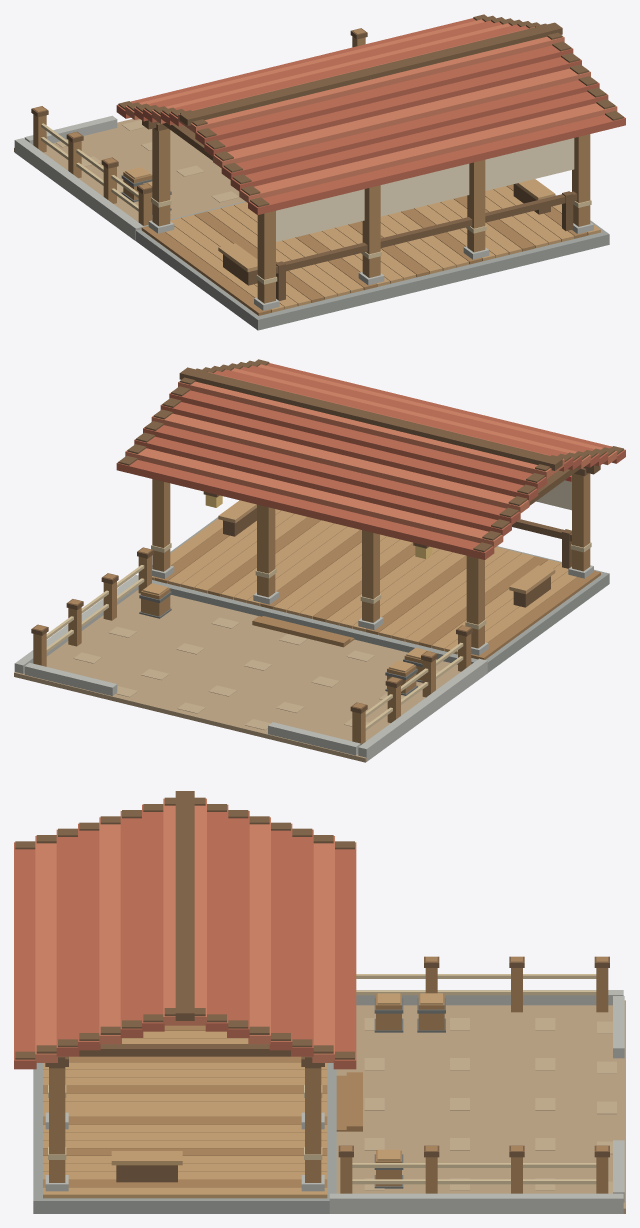
The model's file is centro_treino_voxel.glb.
3 views of the same model, one above another, from view 1: azimuth 30°, elevation 25°; view 2: azimuth 150°, elevation 25°; view 3: azimuth 270°, elevation 25° (orthographic). The views are drawn at different scales.
Parts seen in each view (by area): view 1: CentroTreinoVoxel; view 2: CentroTreinoVoxel; view 3: CentroTreinoVoxel.
Part boxes in pixels (x1,y1,x2,y2): CentroTreinoVoxel: (14, 14, 625, 330); CentroTreinoVoxel: (14, 359, 625, 762); CentroTreinoVoxel: (14, 791, 625, 1213).
Size of the model in its own units: 11.1 by 4.83 by 12.91.
